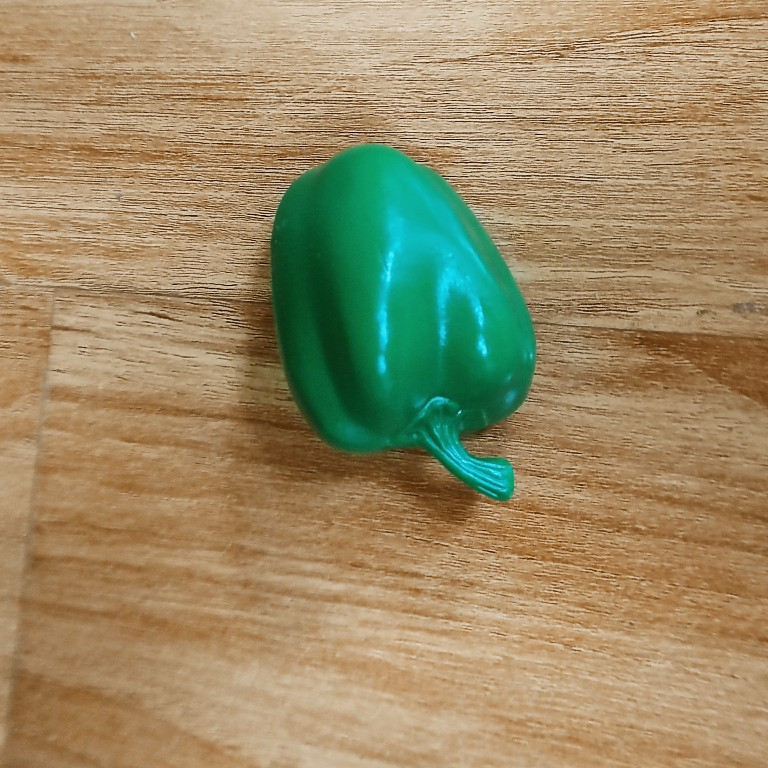fruit_pepper: (267, 140, 543, 508)
